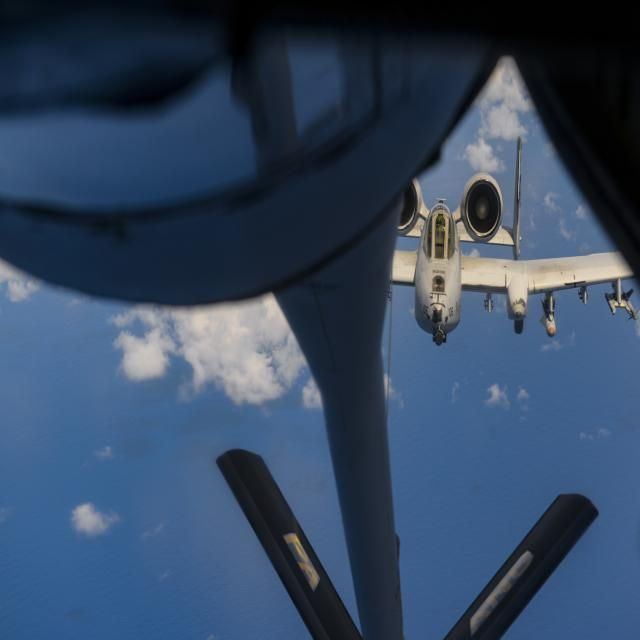MIL_Plane: (386, 136, 637, 346)
